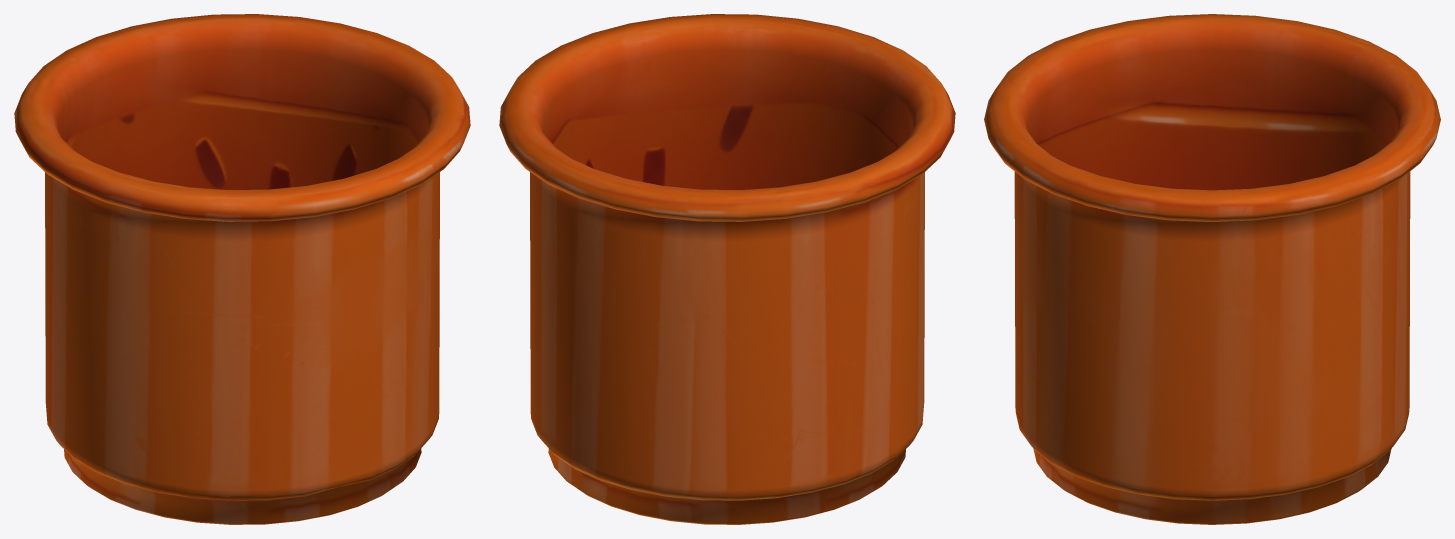
Rendered from 065-g_cups.dae.
3 renders of one model, left to right at view 1: azimuth 30°, elevation 25°; view 2: azimuth 150°, elevation 25°; view 3: azimuth 270°, elevation 25°, orthographic.
Visible parts, largest first — view 1: 065-g_cups; view 2: 065-g_cups; view 3: 065-g_cups.
Boxes of the visible parts, bbox=[...] form: 065-g_cups: bbox=[14, 14, 470, 524]; 065-g_cups: bbox=[499, 14, 955, 524]; 065-g_cups: bbox=[984, 14, 1440, 524].
Bounding box in the file's own units: 0.0872 × 0.0872 × 0.0728.
1 material, 1 textured.
